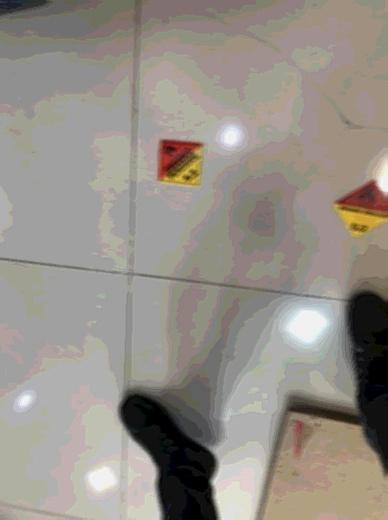organic-peroxide: (332, 177, 388, 239), (159, 138, 204, 188)
